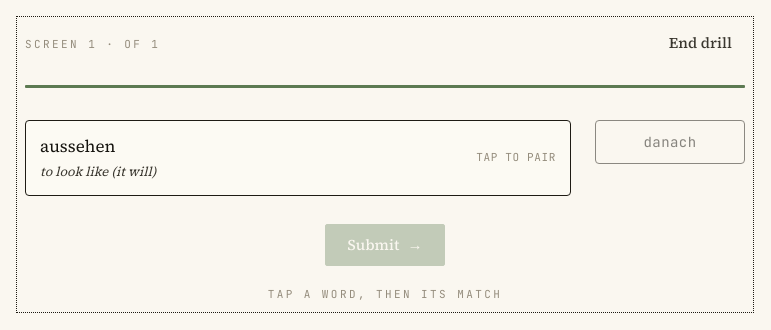
Test: MatchRunner — smoke tests (count=1, trivially a single correct pair) › tapping the row then the chip assigns the pair and the chip leaves the pool
The image size is (771, 330).
Click the button "aussehen to look like (it will) tap to pair": (78, 146) [25,120,571,196]
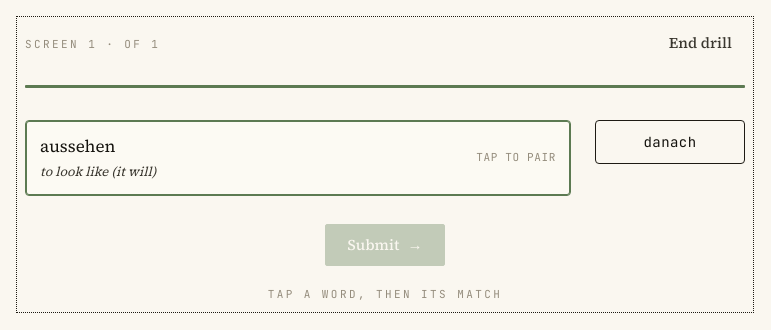
Click the button "danach": (670, 142) [595,120,745,164]
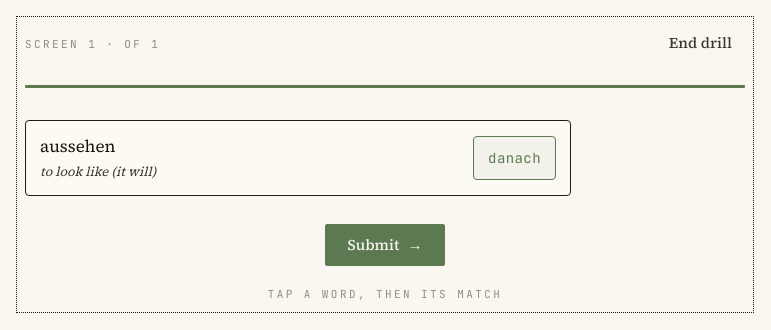
Expected: the text "danach" is shown, [473,136,556,180]
Expected: no buttons are shown
